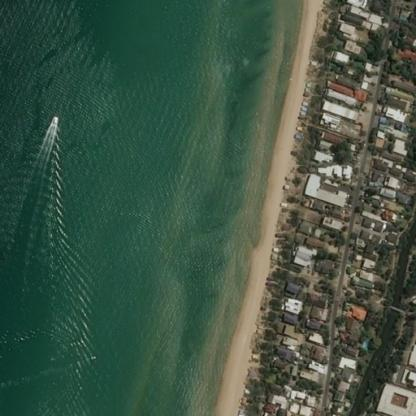ship: (44, 110, 64, 130)
